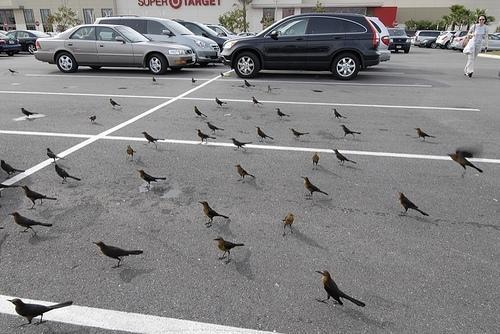car: (223, 14, 382, 78), (37, 24, 198, 72), (94, 16, 220, 67), (176, 20, 225, 52), (6, 30, 51, 53), (450, 33, 500, 52), (371, 16, 391, 62), (386, 28, 411, 54), (411, 30, 444, 49), (0, 30, 21, 56), (436, 30, 457, 50), (208, 24, 234, 35)
